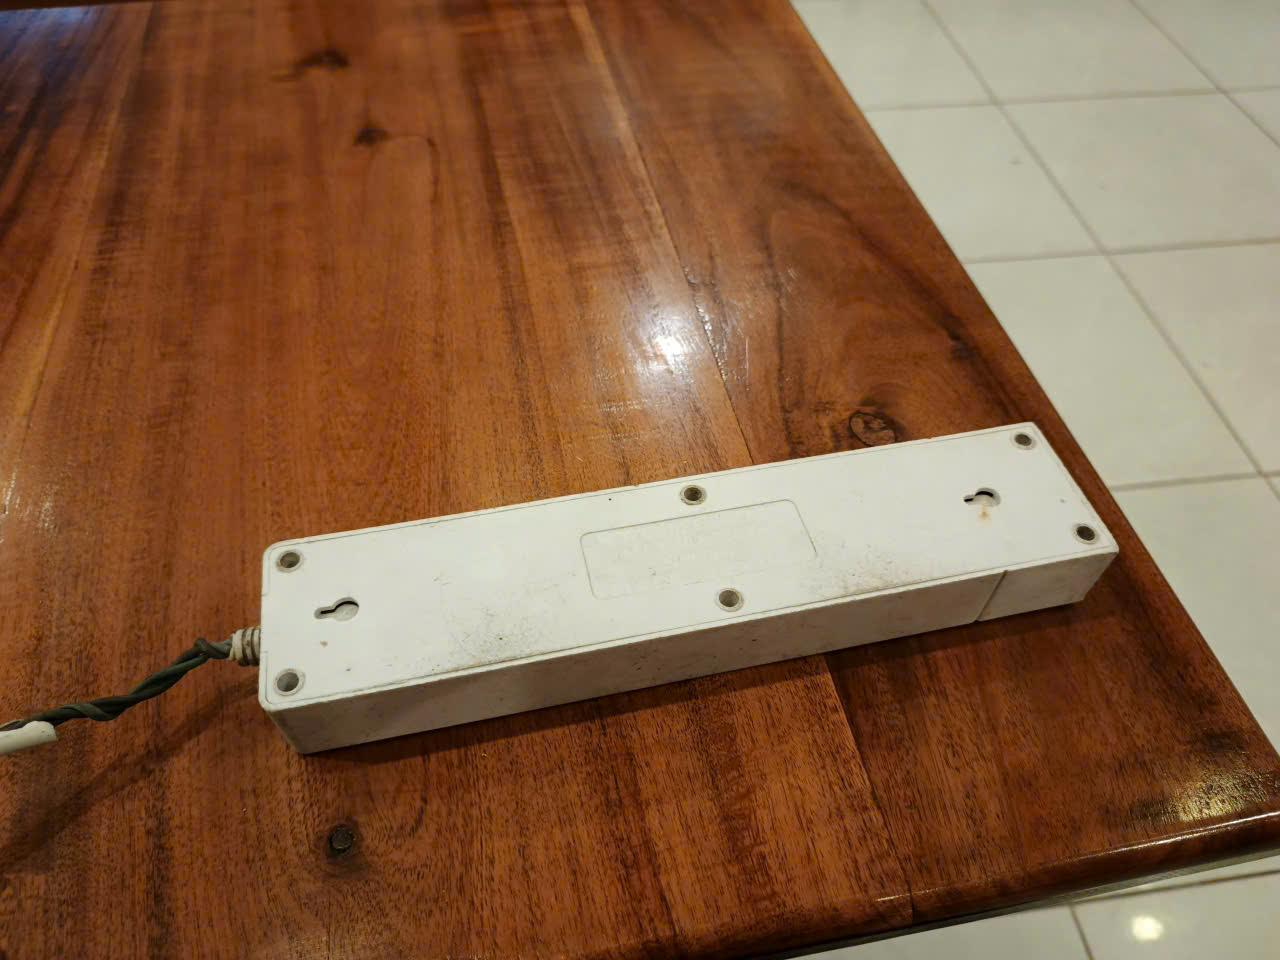Con lai: (256, 416, 1119, 748)
